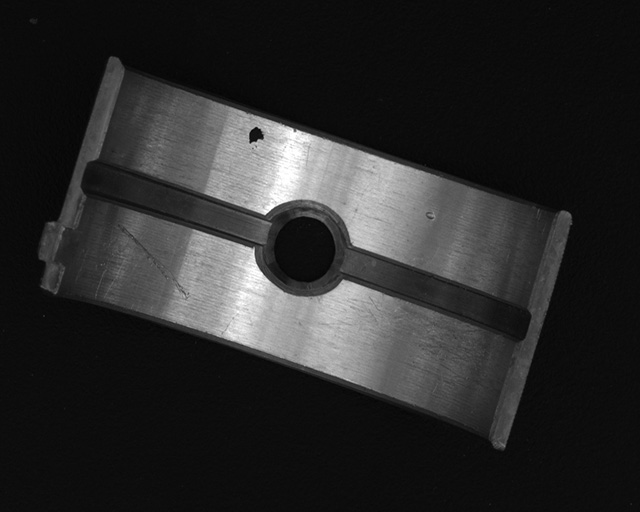blot: (248, 126, 265, 150)
bruise: (424, 210, 436, 221)
gap: (341, 247, 527, 340), (82, 160, 270, 246)
hole: (263, 201, 345, 292)
nick: (117, 224, 190, 301)
scratch: (346, 290, 502, 393)
